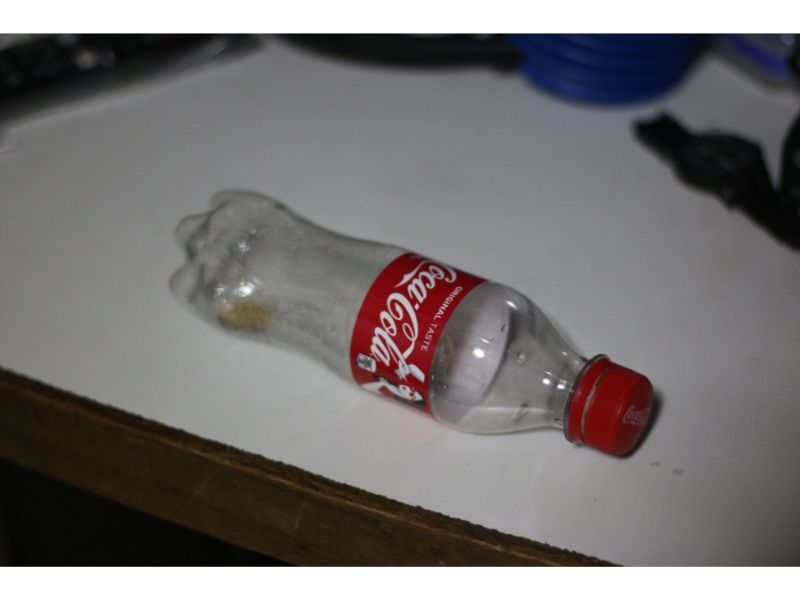PET #1: (166, 187, 665, 458)
